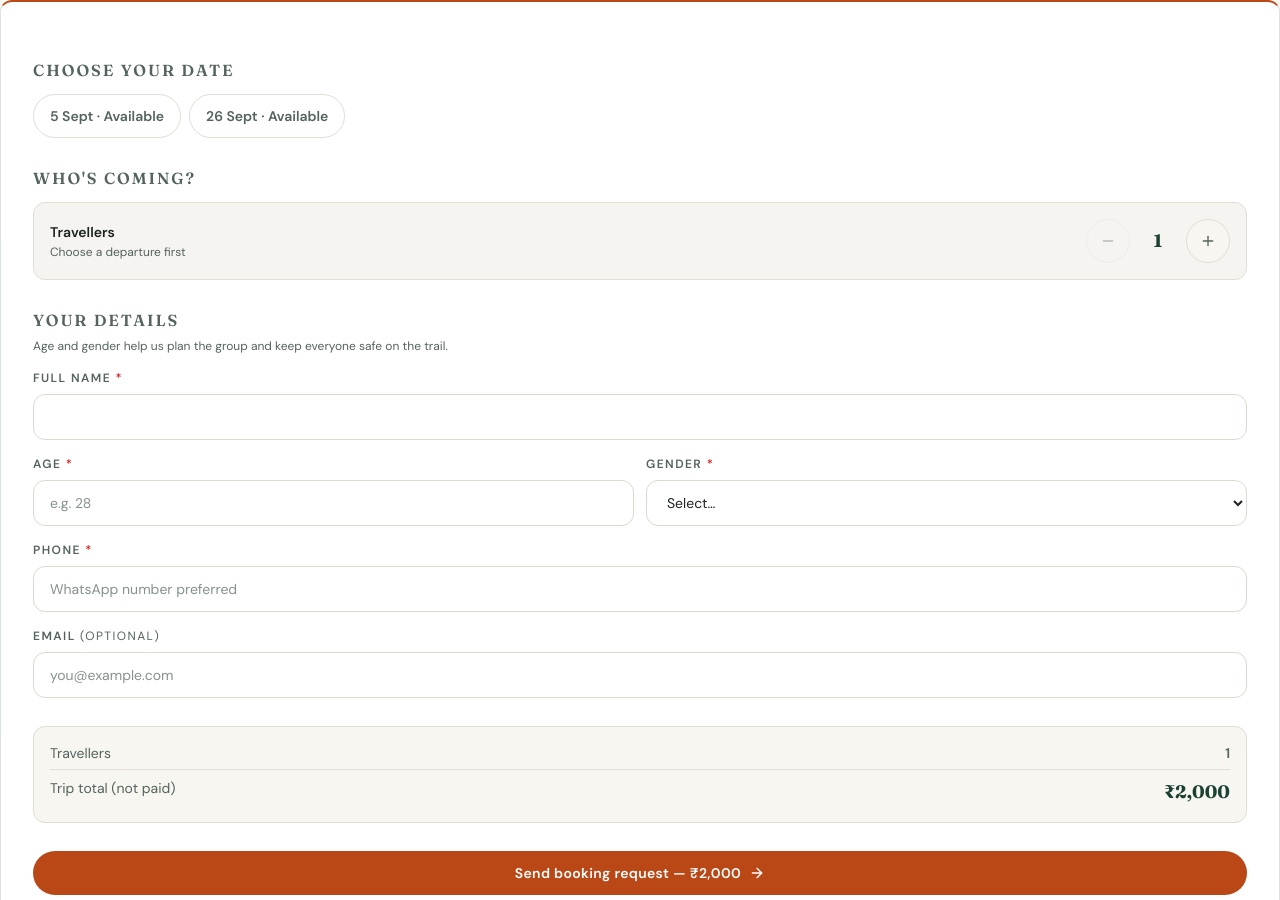
Scenario: BookingForm › requires an explicit departure for a multi-date trip
The width and height of the screenshot is (1280, 900).
Type "Ravi Kumar" into the field labelled "Full name *". click: (640, 417)
box: [33,394,1247,440]
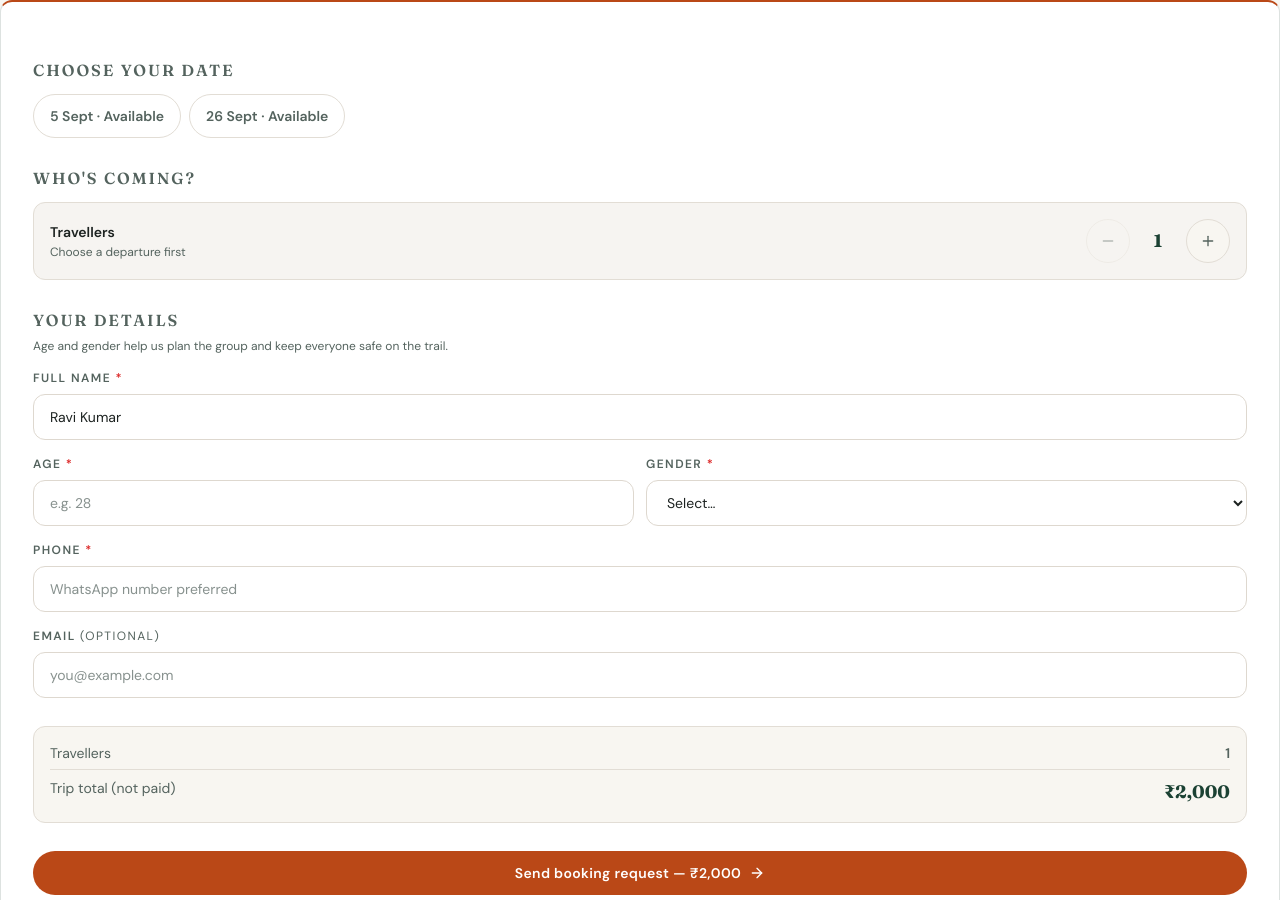
Type "28" into the number field labelled "Age *". click: (334, 503)
box: [33,480,634,526]
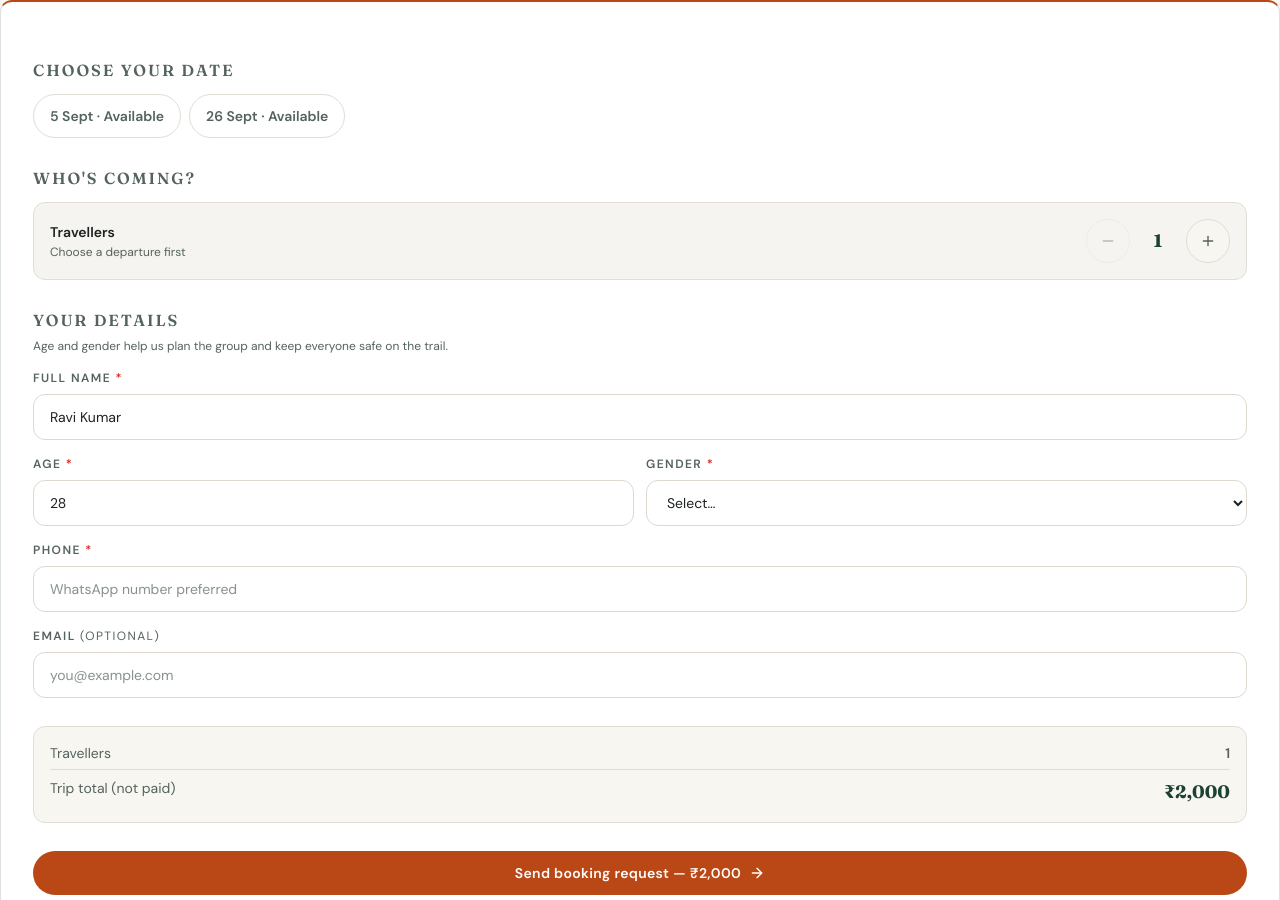
Select "Male" in the dropdown labelled "Gender *". click: (946, 503)
box: [646,480,1247,526]
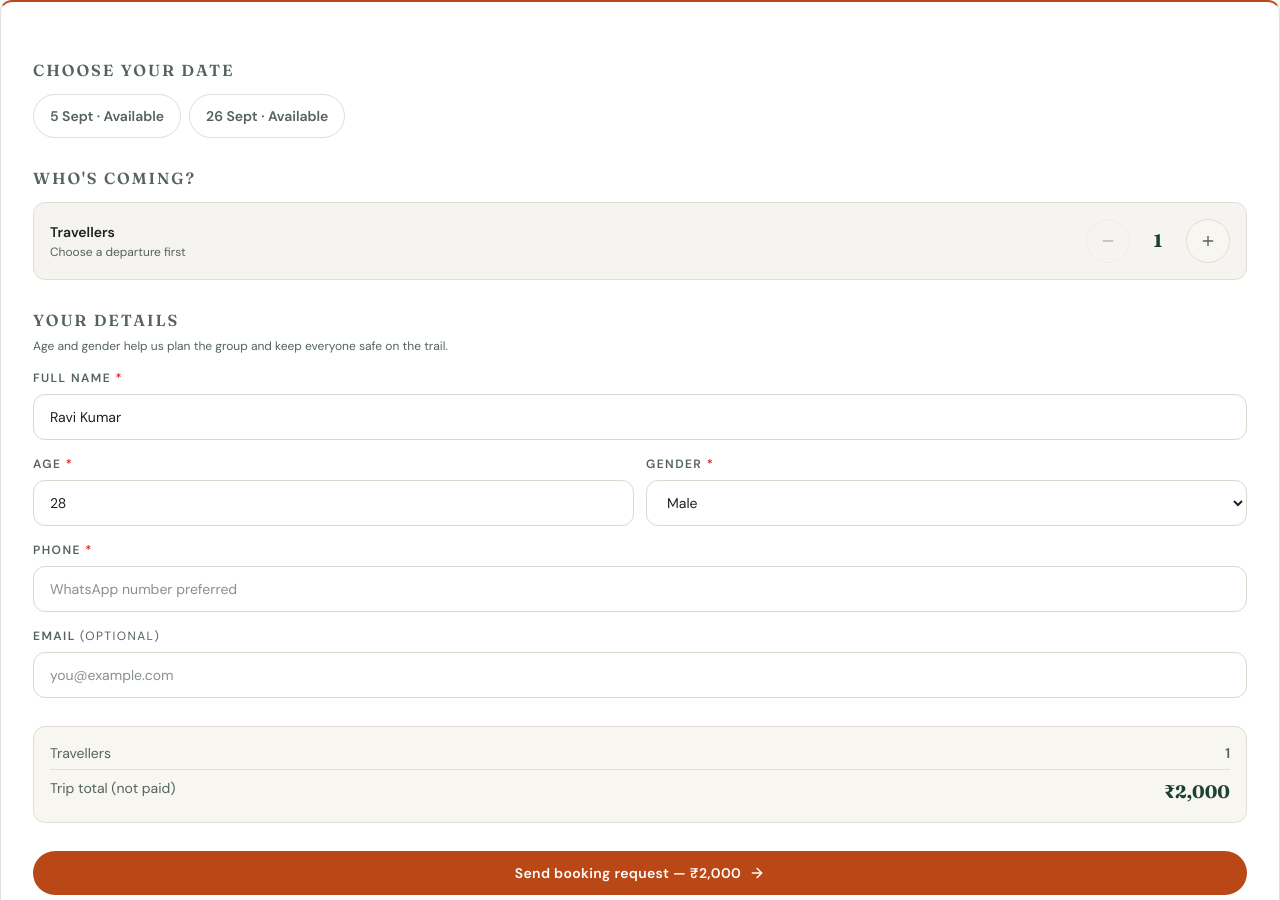
Type "9876543210" into the field labelled "Phone *". click: (640, 589)
box: [33,566,1247,612]
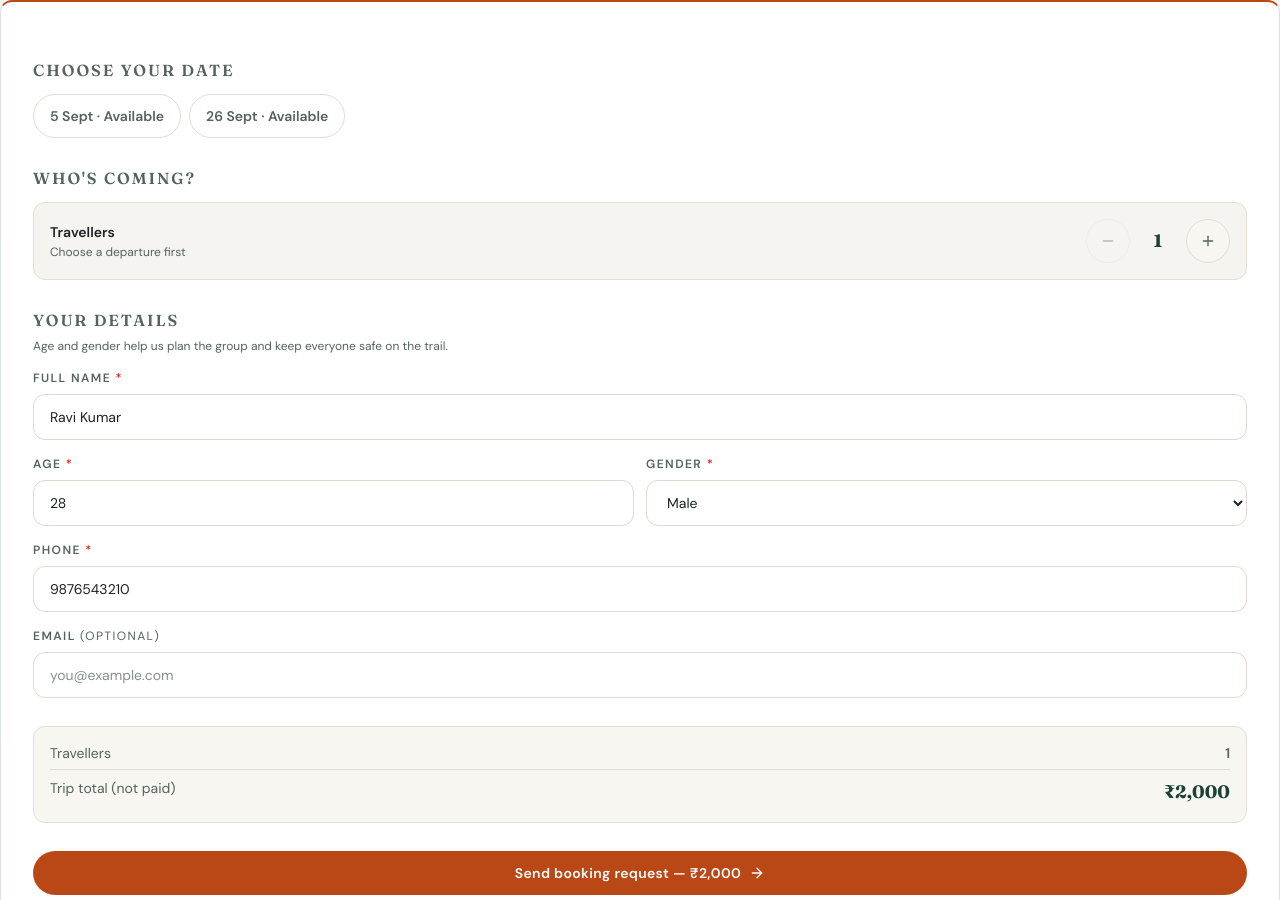
Click the button "Send booking request — ₹2,000". click: (640, 873)
box: [33,851,1247,895]
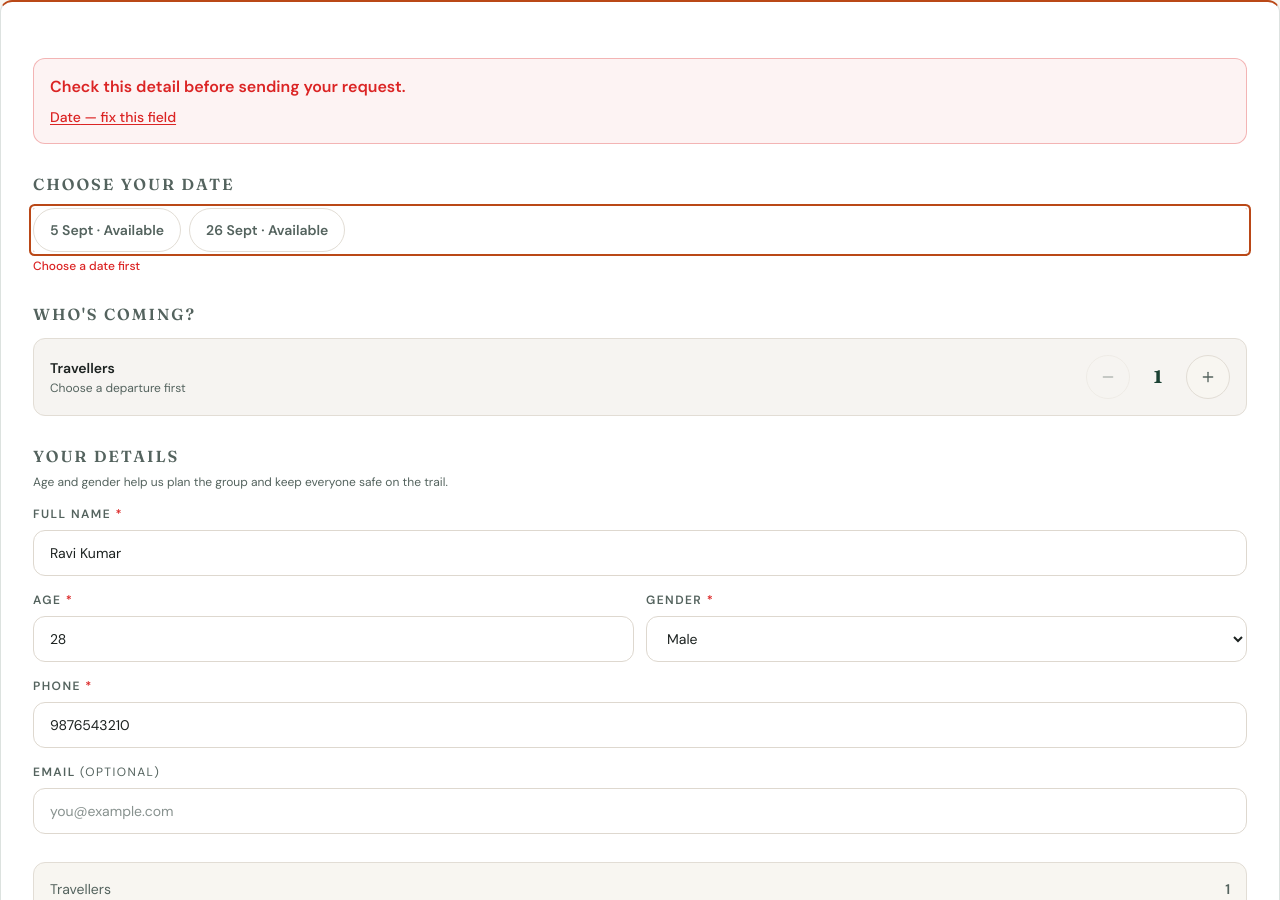
Now the text "Choose a date first" is shown, box [33,258,140,274]
